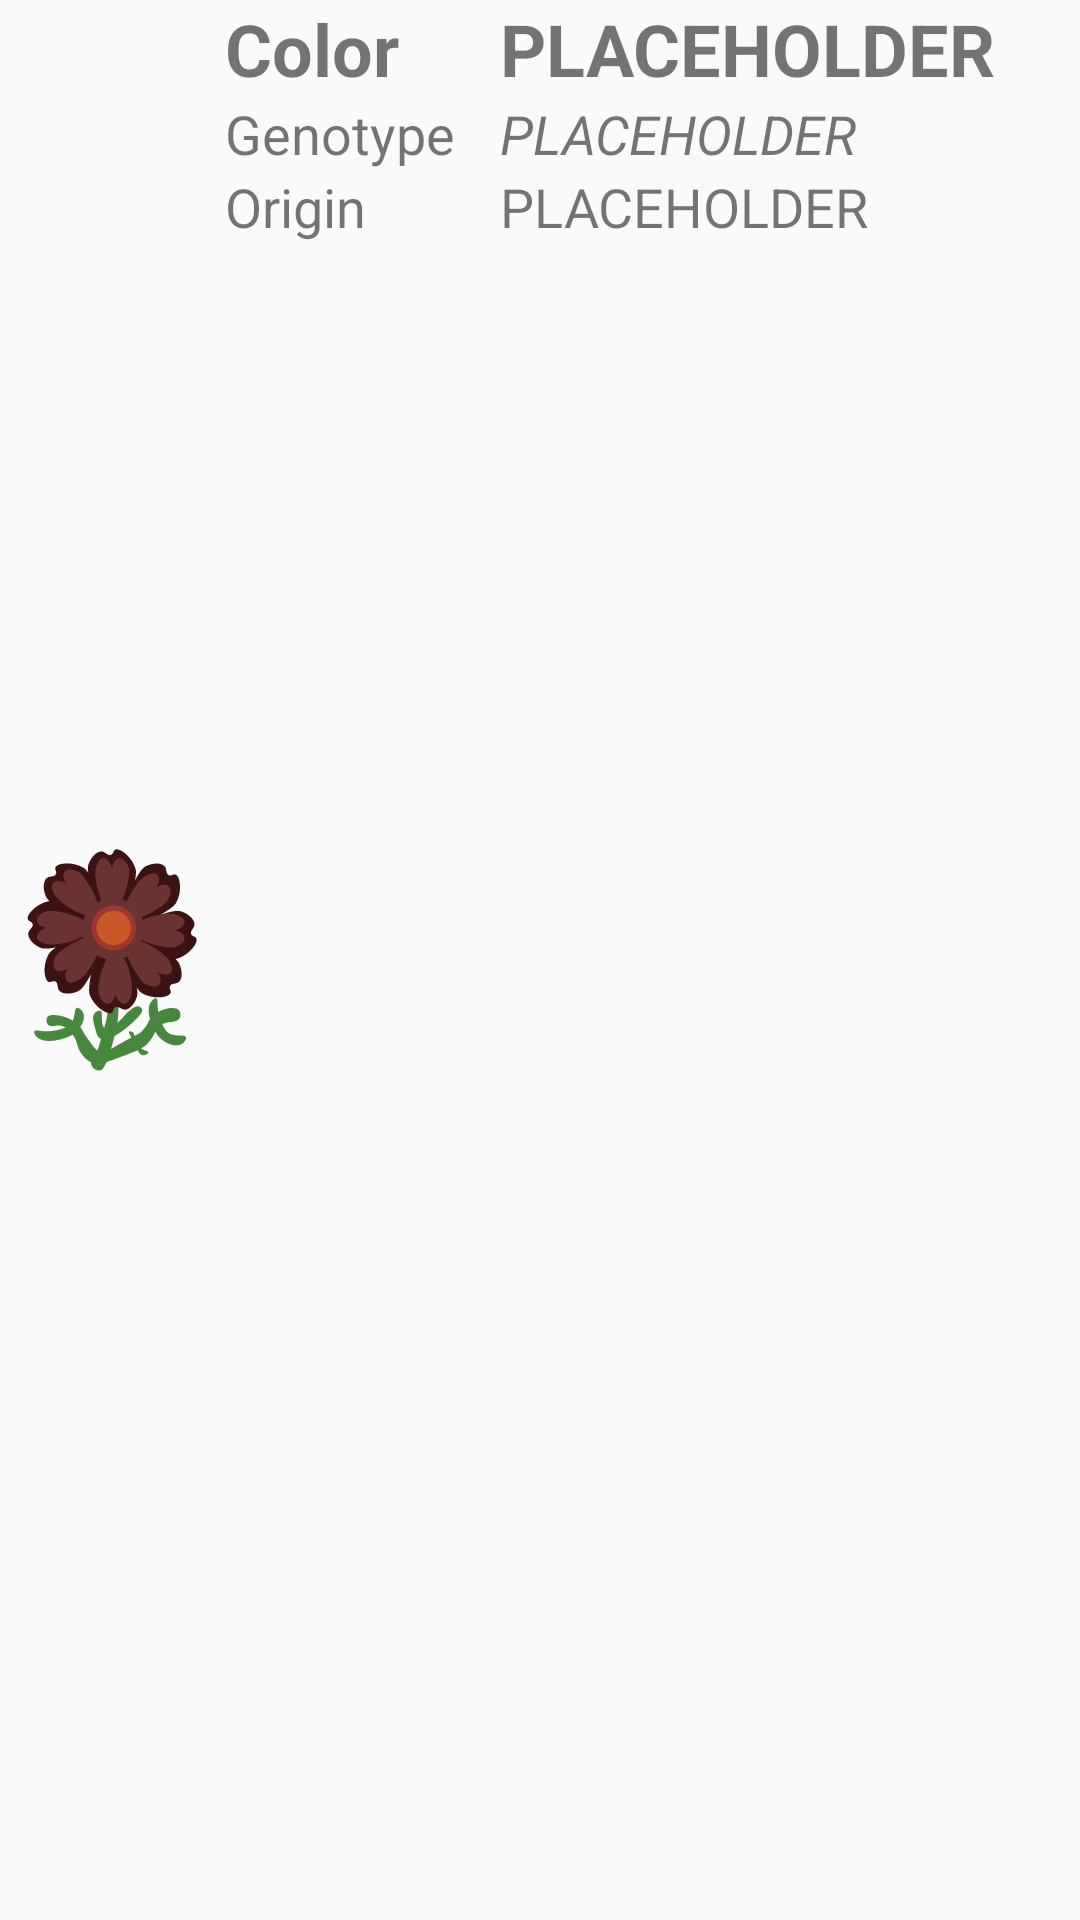

Named icons in this screenshot (1080w x 1920h) and their bounding boxes, (x1, y1, x2, y2):
cosmo: (27, 849, 197, 1071)
